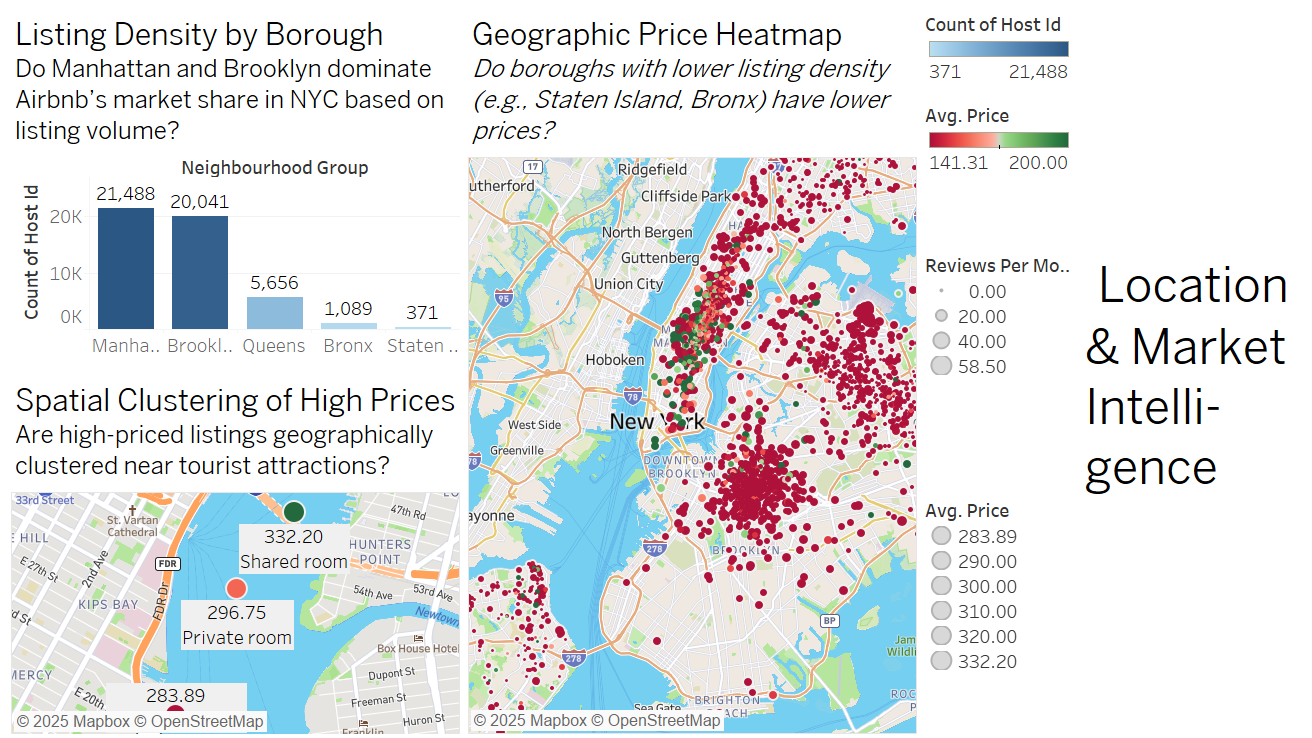

Layout of this report page (visuals, bound fields, positions):
{"tool":"tableau","page":{"name":"Dashboard 5","canvas":[1000,1000],"units":"permille","ordinal":3},"visuals":[{"type":"worksheet","title":"Sheet 8","mark":"Automatic","rows":["host_id"],"cols":["calculated_host_listings_count"],"box":[6.6,10.7,403.7,489.3]},{"type":"worksheet","title":"Sheet 10","mark":"Automatic","rows":["reviews_per_month"],"cols":["calculated_host_listings_count"],"box":[410.2,10.7,403.7,489.3]},{"type":"legend","title":"Sheet 8","param":"[federated.0ehuq190u02xrj1abzuu80uqy7lj].[none:neighbourhood_group:nk]","box":[813.9,10.7,179.5,259.7]},{"type":"legend","title":"Sheet 10","param":"[federated.0ehuq190u02xrj1abzuu80uqy7lj].[none:Calculation_809240571852996609:nk","box":[813.9,270.4,179.5,397.6]},{"type":"worksheet","title":"Sheet 9","mark":"Circle","rows":["price"],"cols":["Calculation_809240571852996609"],"box":[6.6,500,807.4,489.3]},{"type":"text","box":[813.9,668,179.5,195.5]}]}

Visuals, with their boxes on the dashboard's canvas, which has no fixed pixel size, in thousandths of its width and height (x1, y1, x2, y2). These are canvas units, not pixel positions in the 1312x738 screenshot, which may show the page scaled, cropped or inside an application window:
"Sheet 8" worksheet: select_region(7, 11, 410, 500)
"Sheet 10" worksheet: select_region(410, 11, 814, 500)
"Sheet 8" legend: select_region(814, 11, 993, 270)
"Sheet 10" legend: select_region(814, 270, 993, 668)
"Sheet 9" worksheet (Circle marks): select_region(7, 500, 814, 989)
text: select_region(814, 668, 993, 864)
